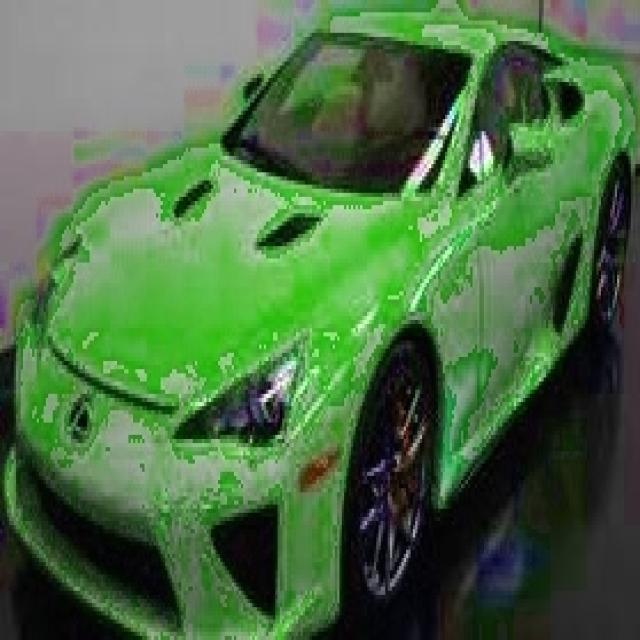green: (11, 16, 640, 640)
